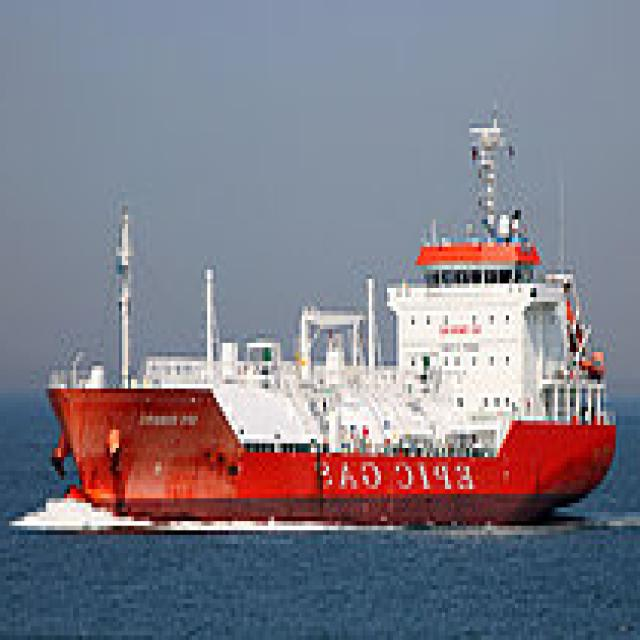Tanker: (46, 96, 624, 517)
